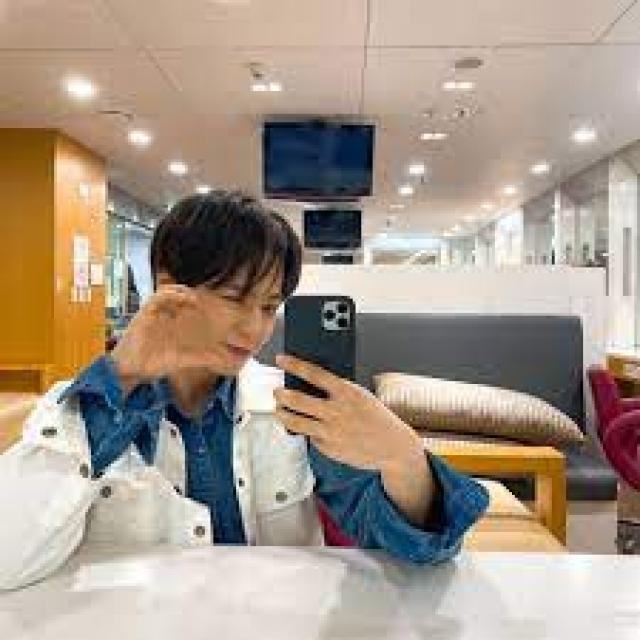Mobile: (280, 292, 359, 437)
